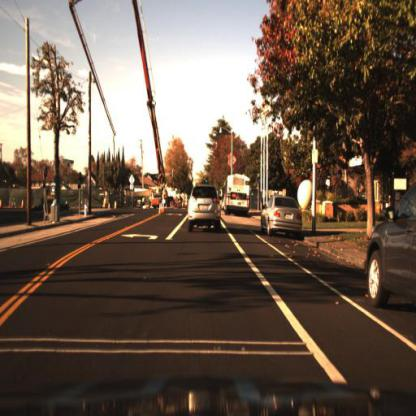car: (365, 182, 416, 318), (256, 188, 309, 247), (184, 182, 227, 237)
truck: (71, 1, 173, 211), (225, 169, 254, 219)
